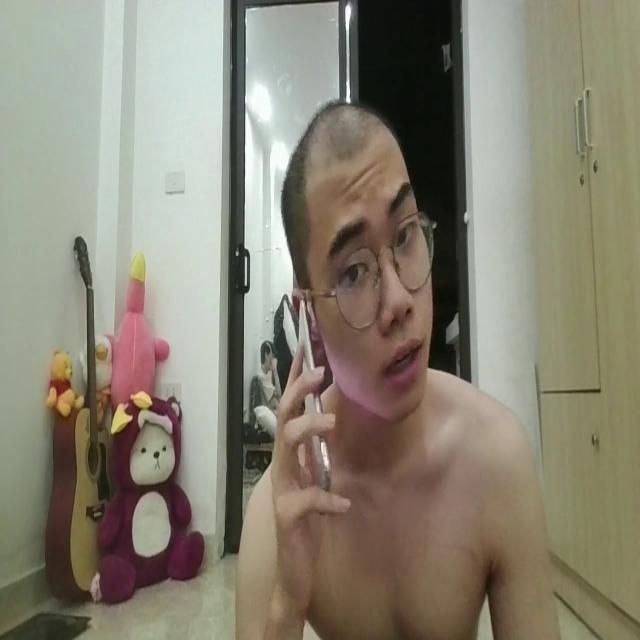phone: (260, 297, 354, 524)
student: (221, 80, 571, 640)
